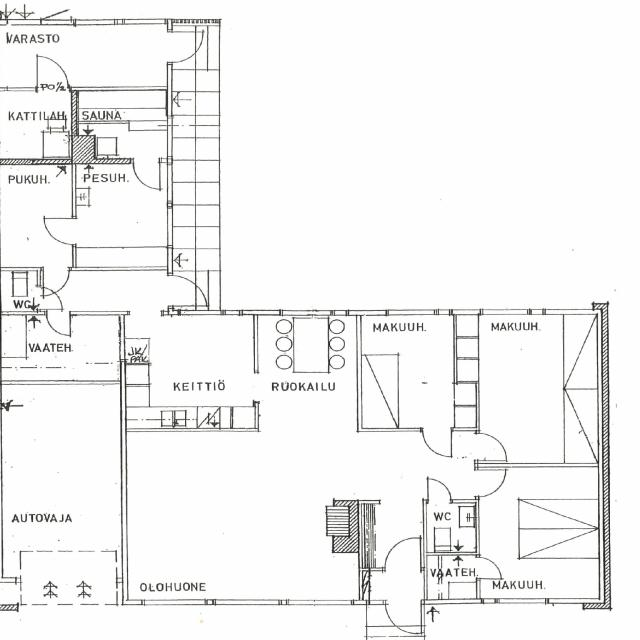door: (385, 598, 420, 636), (385, 535, 420, 570), (167, 276, 205, 306), (167, 32, 205, 62), (37, 58, 69, 92), (475, 433, 508, 460), (422, 428, 450, 457), (133, 159, 159, 189), (476, 470, 506, 496), (45, 219, 76, 244), (40, 0, 71, 24), (43, 267, 69, 295), (46, 311, 70, 337), (36, 287, 64, 309), (476, 558, 502, 578), (428, 480, 450, 503)
